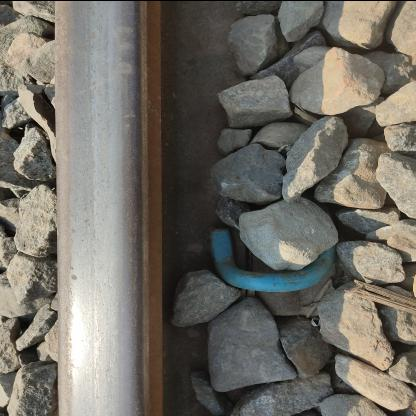Non Defective 1: (179, 196, 356, 341)
